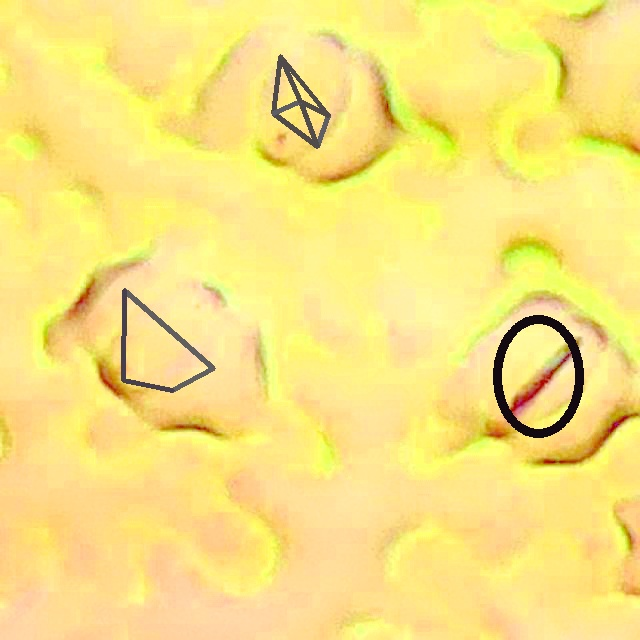close: (121, 288, 215, 392), (271, 54, 330, 148)
open: (493, 315, 583, 438)
